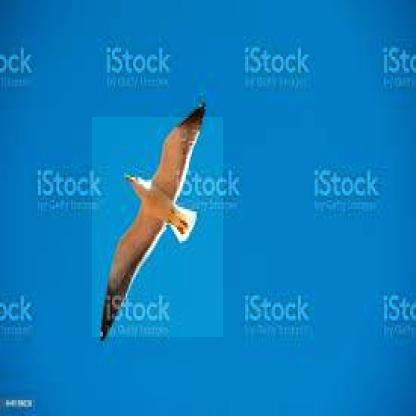bird: (92, 117, 223, 337)
